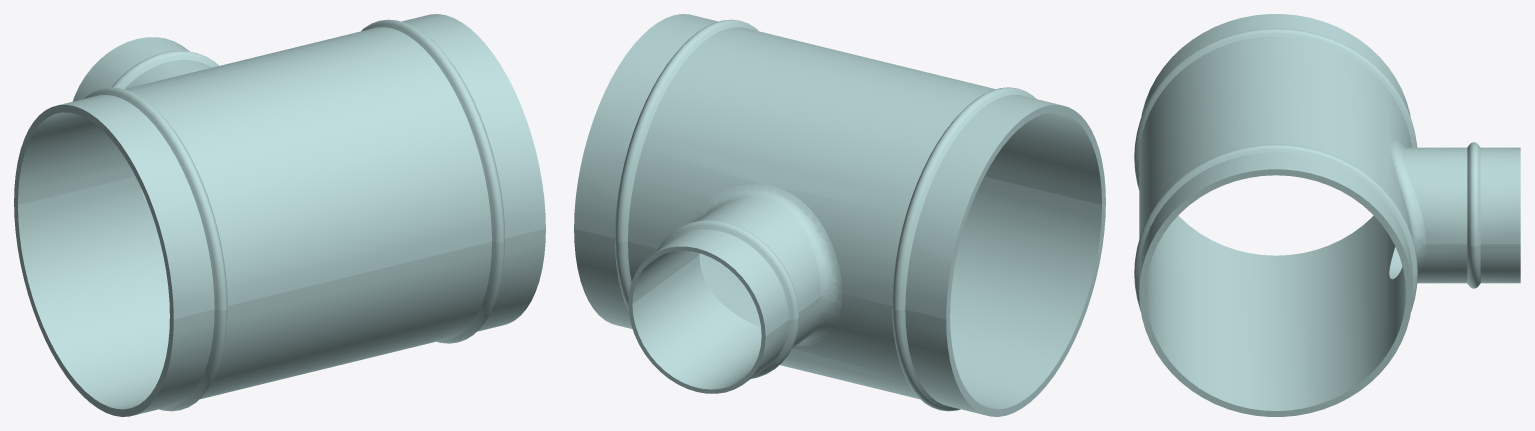
3 views of the same model, side by side, from view 1: azimuth 30°, elevation 25°; view 2: azimuth 150°, elevation 25°; view 3: azimuth 270°, elevation 25° (orthographic). The views are drawn at different scales.
Bounding box in the file's own units: 275 × 212 × 289.
